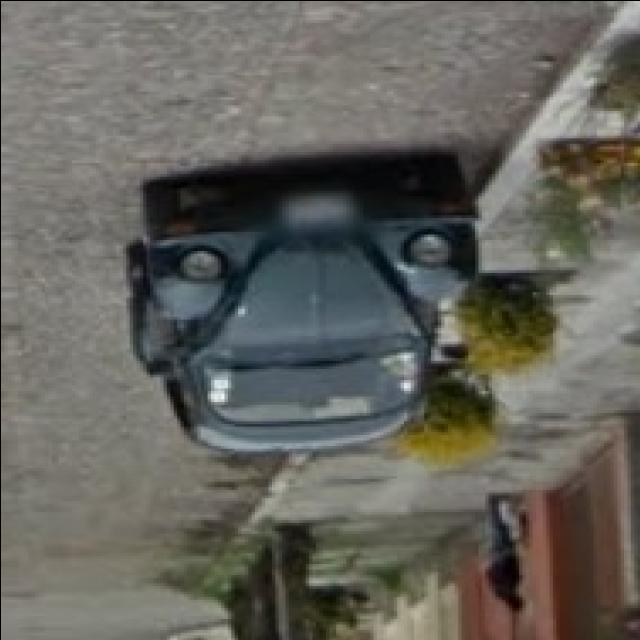car: (125, 170, 449, 452)
